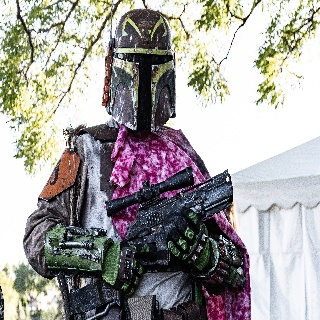rifle: (60, 169, 235, 313)
